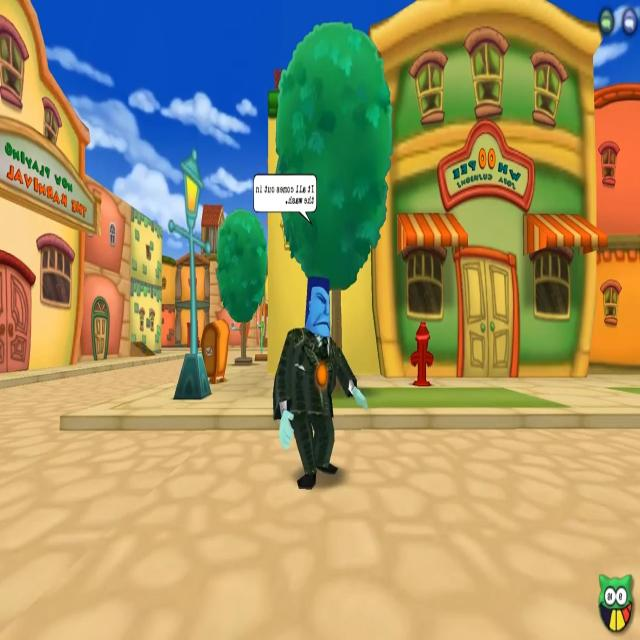shortchange: (254, 175, 368, 496)
